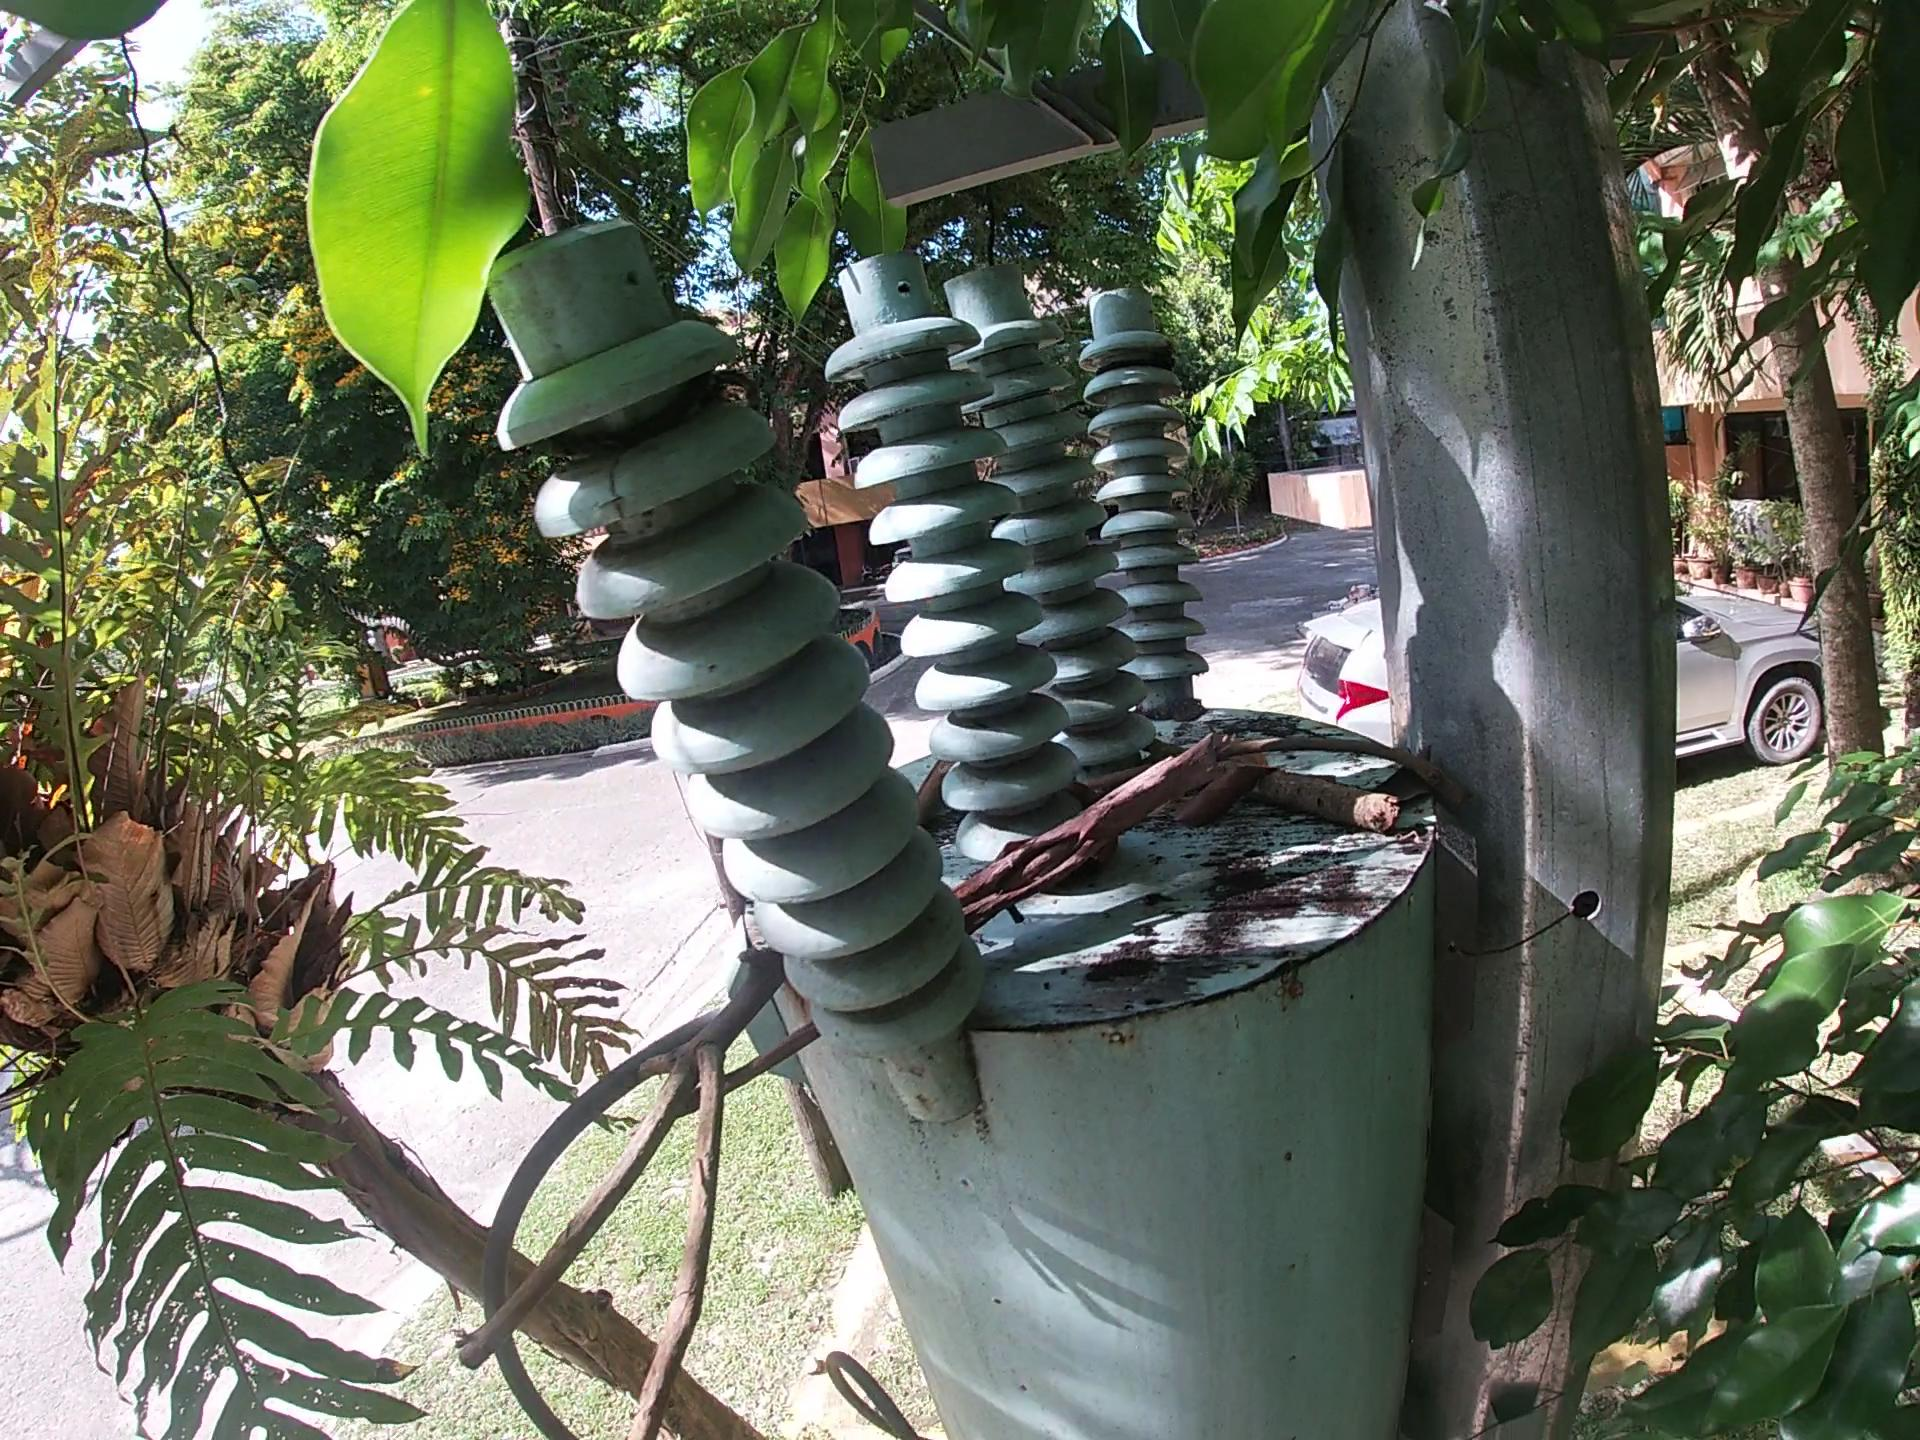leaf: (1169, 762, 1250, 824), (1359, 743, 1438, 794), (1231, 749, 1271, 765)
tree branch: (425, 938, 791, 1440), (958, 743, 1249, 936), (1215, 765, 1424, 827), (1247, 737, 1460, 787), (901, 749, 945, 832), (1089, 759, 1160, 784)
